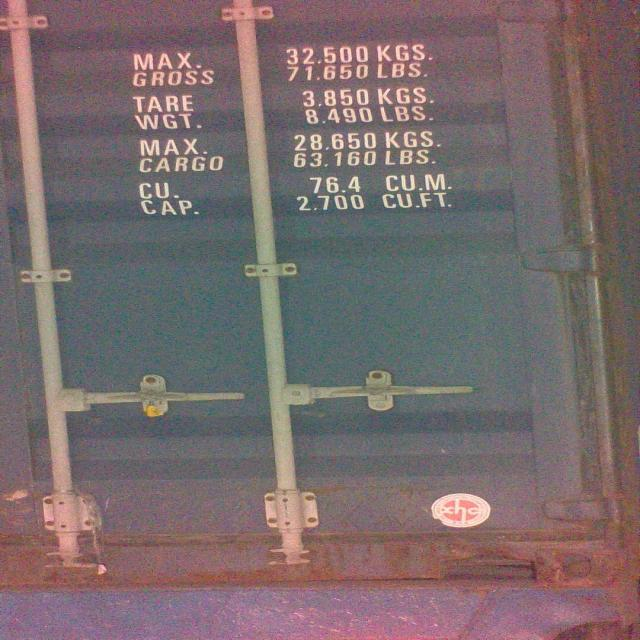seal: (140, 394, 166, 418)
